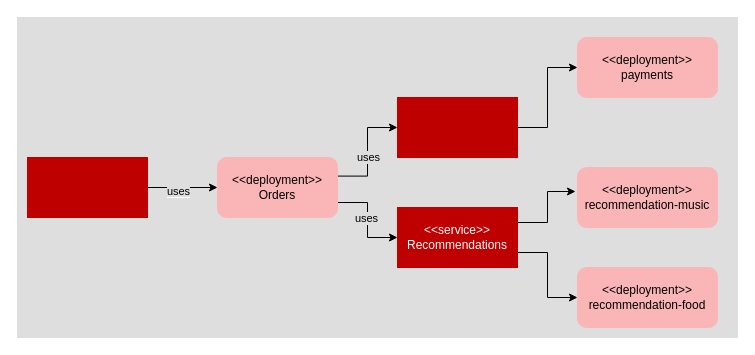
The diagram is 755 pixels wide and 355 high, and some of its shapes have lost their labels. The shapes that lost their labels are listed below. From the top down, each one's box as (x1, y1, x2, y2) in pixels, then its label:
(396, 96, 518, 158): <<service>> Payments
(26, 156, 148, 218): <<service>> Orders
